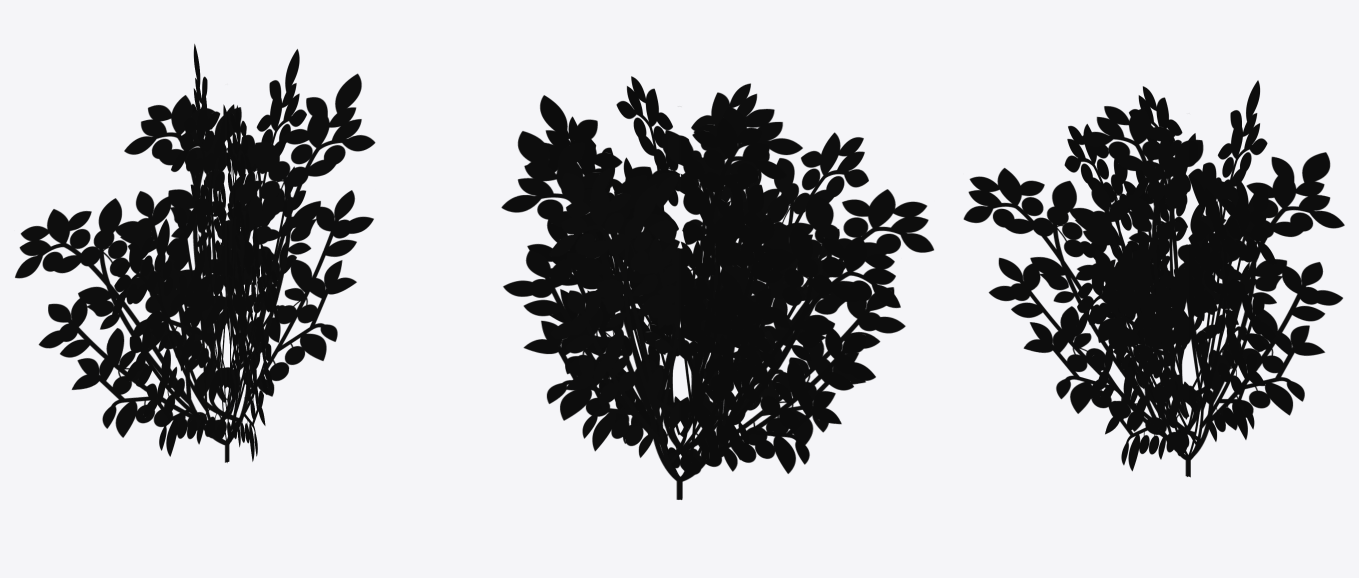
File: BushBlueberry.glb
The picture shows the model from 3 angles, left to right: view 1: azimuth 30°, elevation 25°; view 2: azimuth 150°, elevation 25°; view 3: azimuth 270°, elevation 25°; orthographic projection. The views are drawn at different scales.
Parts seen in each view (by area): view 1: BushBlueberry; view 2: BushBlueberry; view 3: BushBlueberry.
Part boxes in pixels (x1,y1,x2,y2): BushBlueberry: (15, 44, 375, 462); BushBlueberry: (501, 76, 933, 499); BushBlueberry: (963, 80, 1344, 477).
Bounding box in the file's own units: 2.21 × 2 × 1.91.
Materials: 1 (1 with a texture image).
